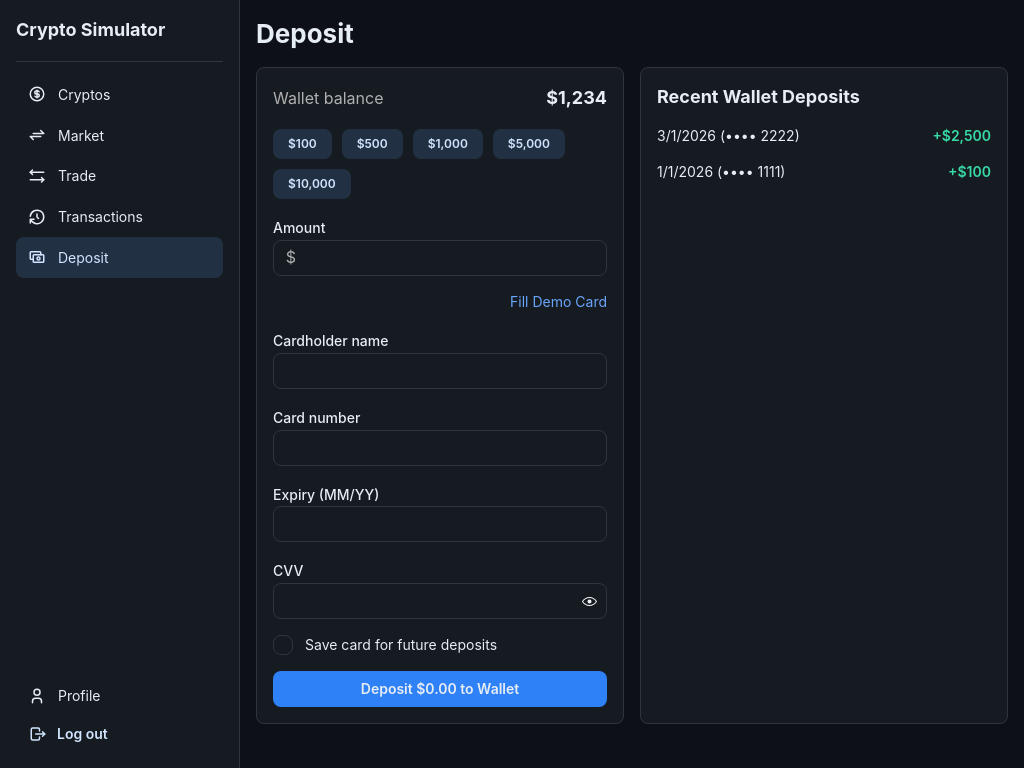
Test: DepositPage › shows an inline error and sends no request for an invalid Luhn number
Click the button "Fill Demo Card". click: (559, 302)
box: [510,292,607,312]
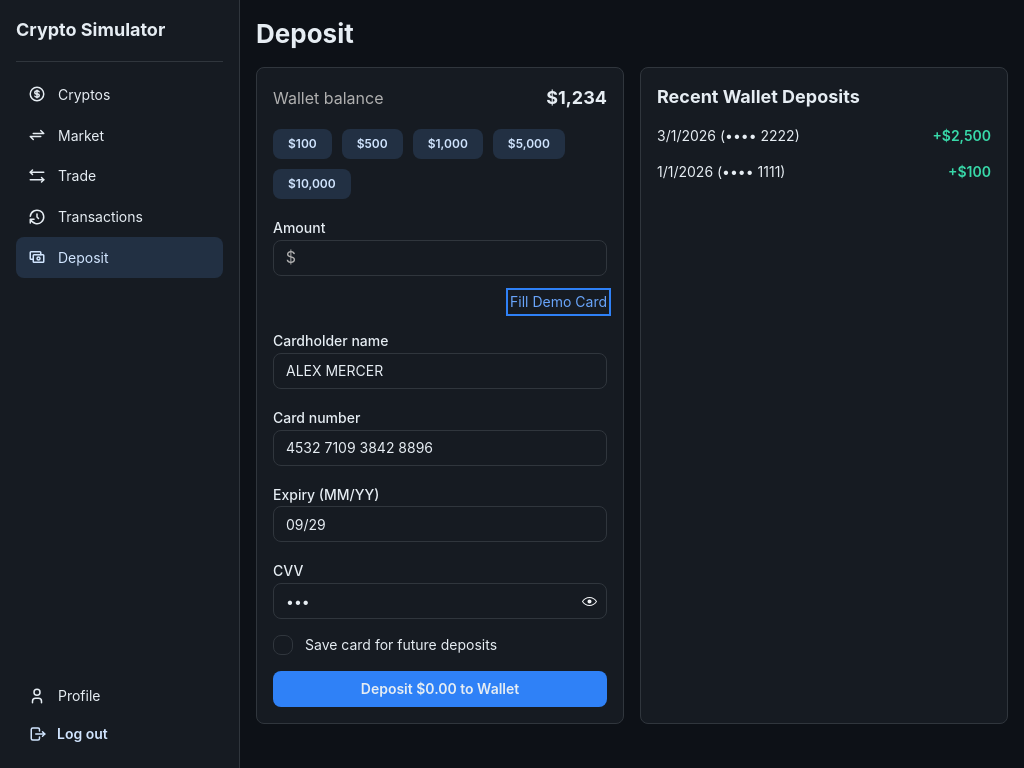
Click the button "$100". click: (302, 144)
box: [273,129,332,159]
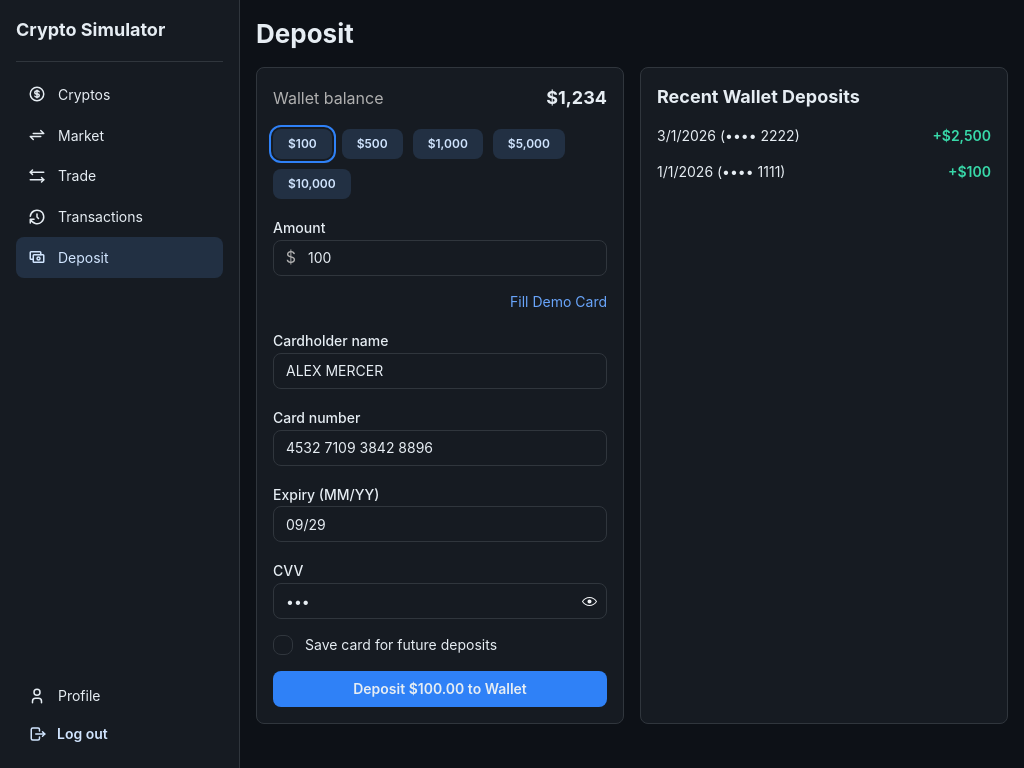
Replace the text in the field labelled "Card number" with "4532710938428890". click: (440, 448)
box: [273,430,607,466]
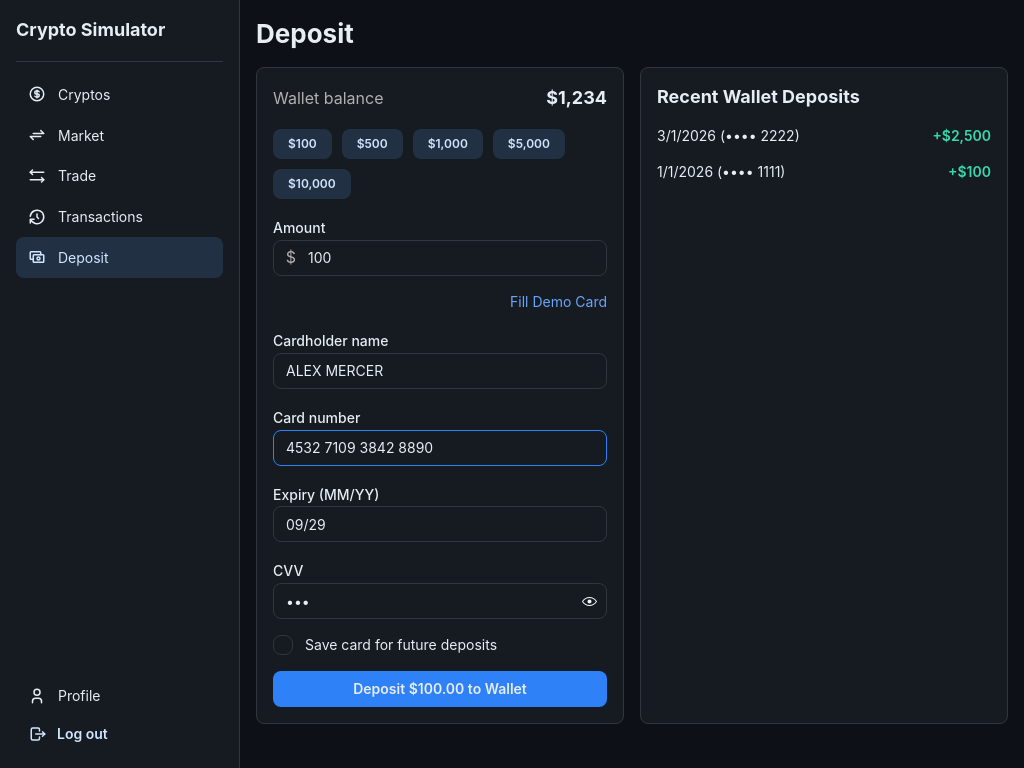
Click the button "Deposit $100.00 to Wallet". click: (440, 689)
box: [273,671,607,707]
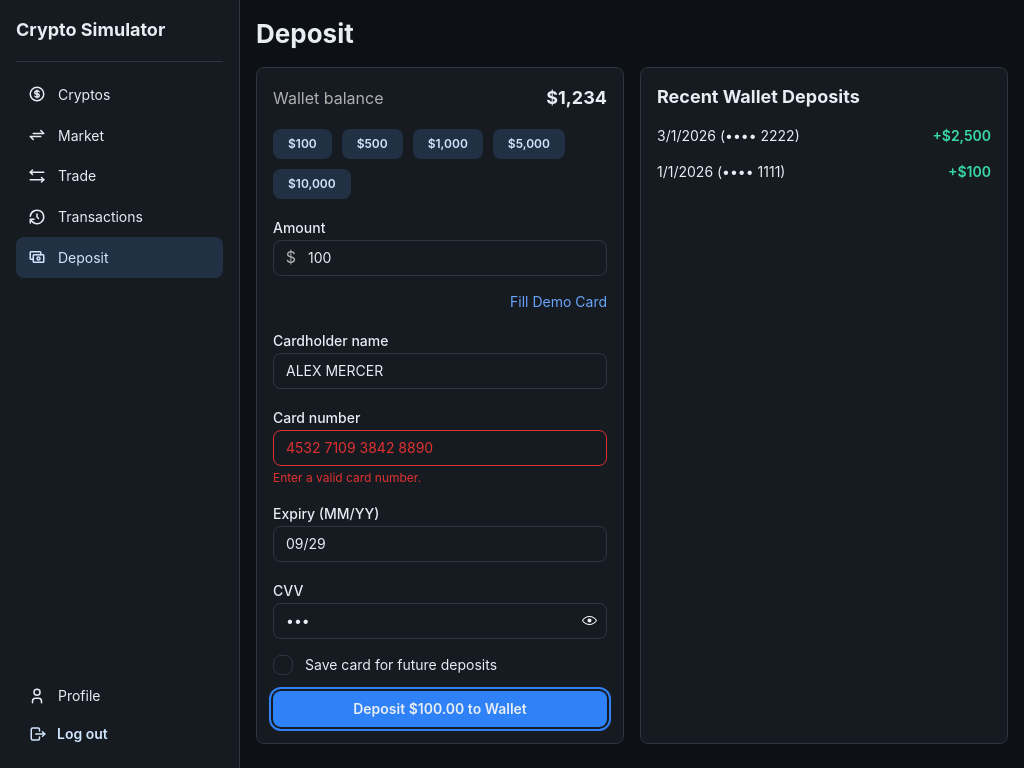
Now the text "Enter a valid card number." is shown, box [273,470,421,485]
